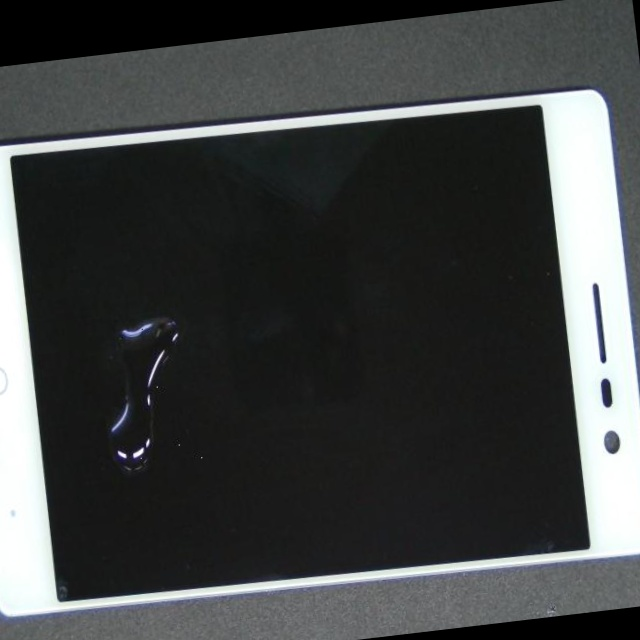oil: (13, 150, 239, 523)
